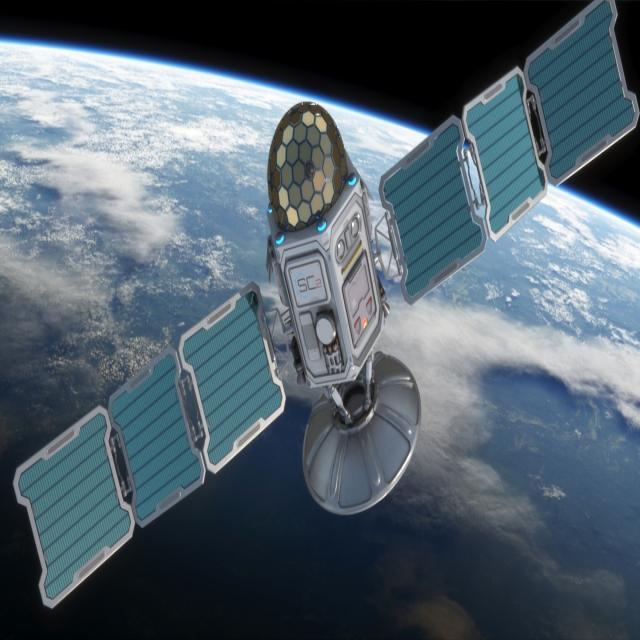sat: (12, 0, 640, 615)
